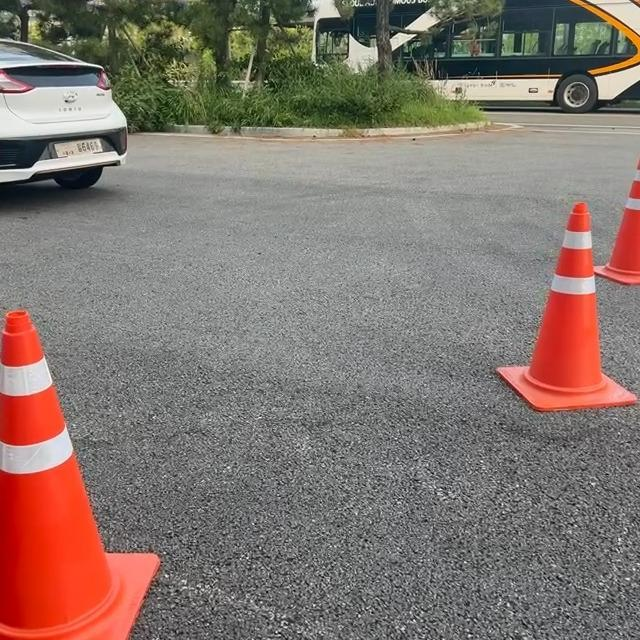fallen_object: (0, 296, 194, 640), (481, 187, 640, 441), (591, 110, 640, 309)
